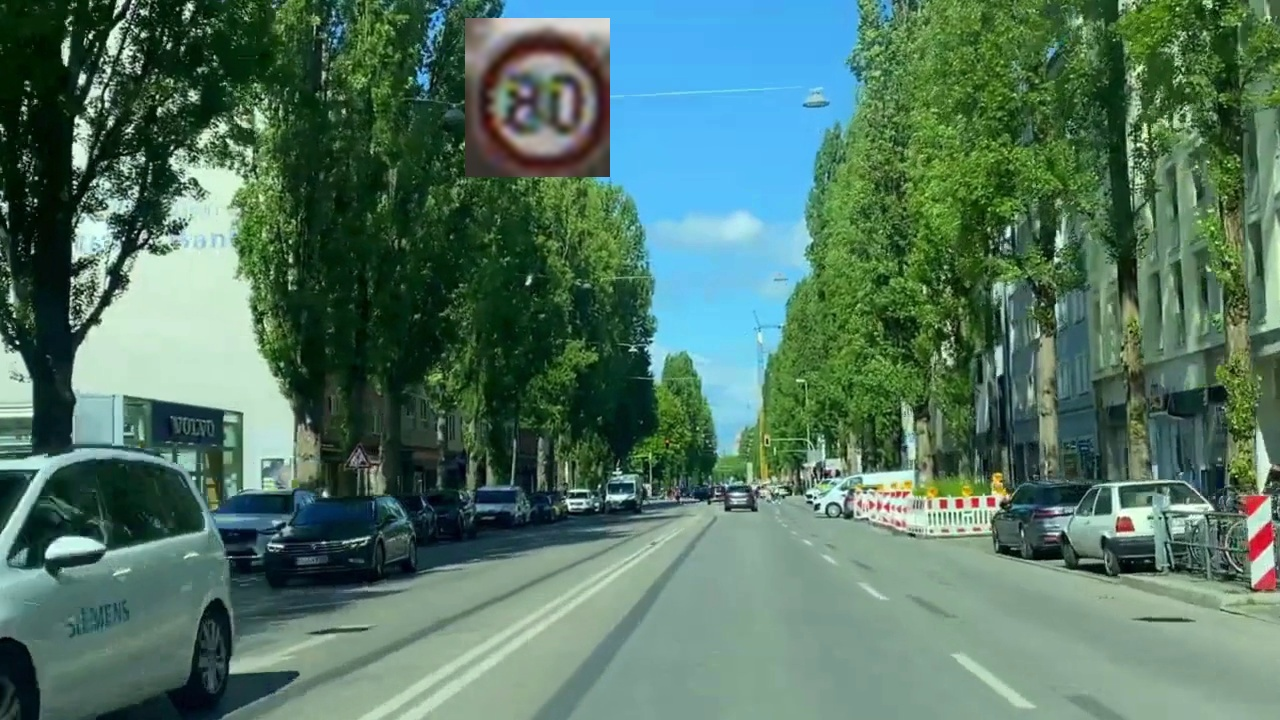Speed 80: (465, 18, 610, 177)
